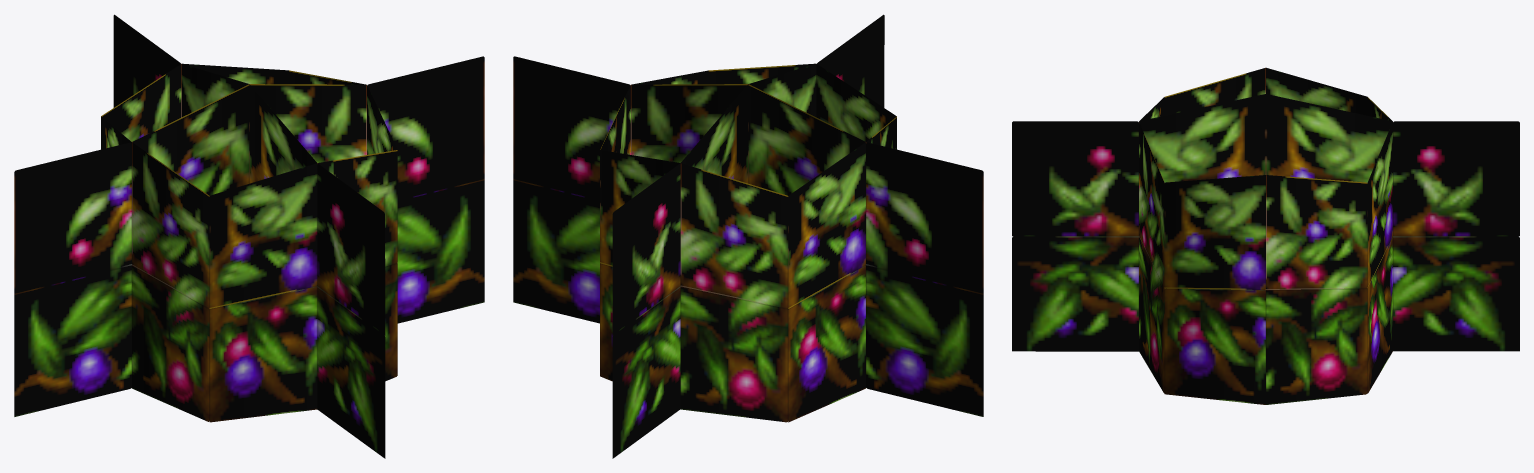
3 views of the same model, side by side, from view 1: azimuth 30°, elevation 25°; view 2: azimuth 150°, elevation 25°; view 3: azimuth 270°, elevation 25° (orthographic). The views are drawn at different scales.
Parts seen in each view (by area): view 1: T1L2M007_8; view 2: T1L2M007_8; view 3: T1L2M007_8.
Part boxes in pixels (x1,y1,x2,y2): T1L2M007_8: [14, 14, 484, 458]; T1L2M007_8: [513, 14, 983, 458]; T1L2M007_8: [1012, 67, 1519, 404].
Size of the model in its own units: 2 by 1.12 by 2.
Materials: 1 (1 with a texture image).
